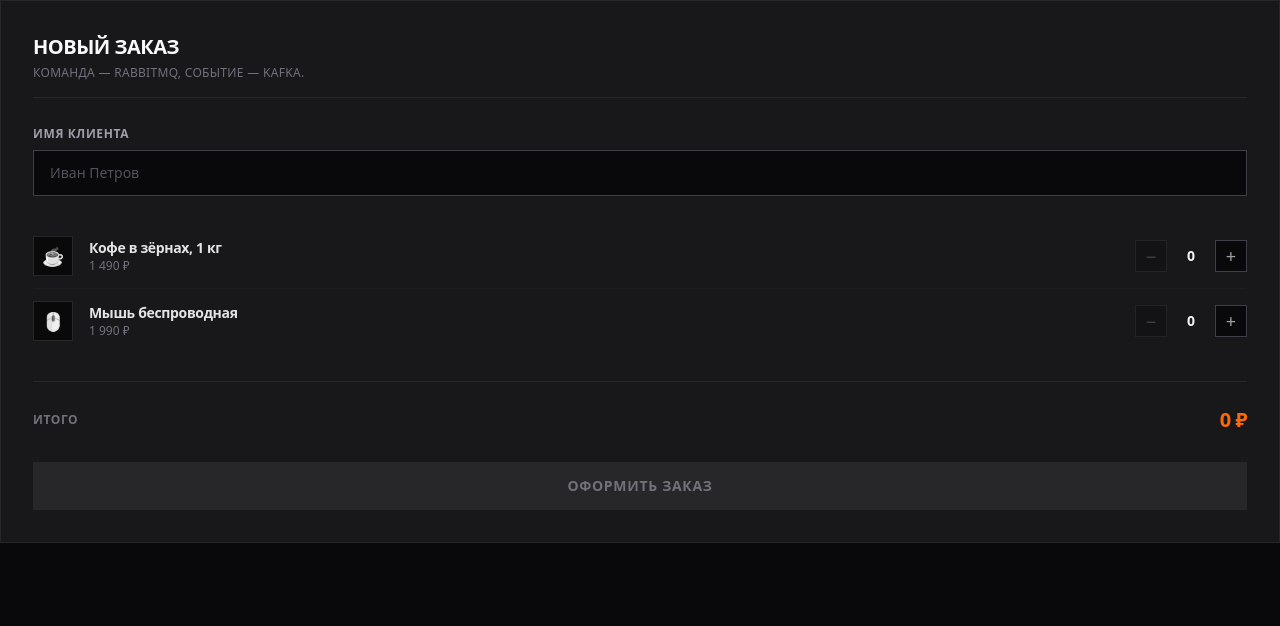
Test: OrderForm › отклоняет заказ без имени клиента
# товар выбран, имени нет → кнопка активна, но валидация внутри должна откатить
Click the button named "Добавить «Кофе в зёрнах, 1 кг»": (1231, 256) [1215,240,1247,272]
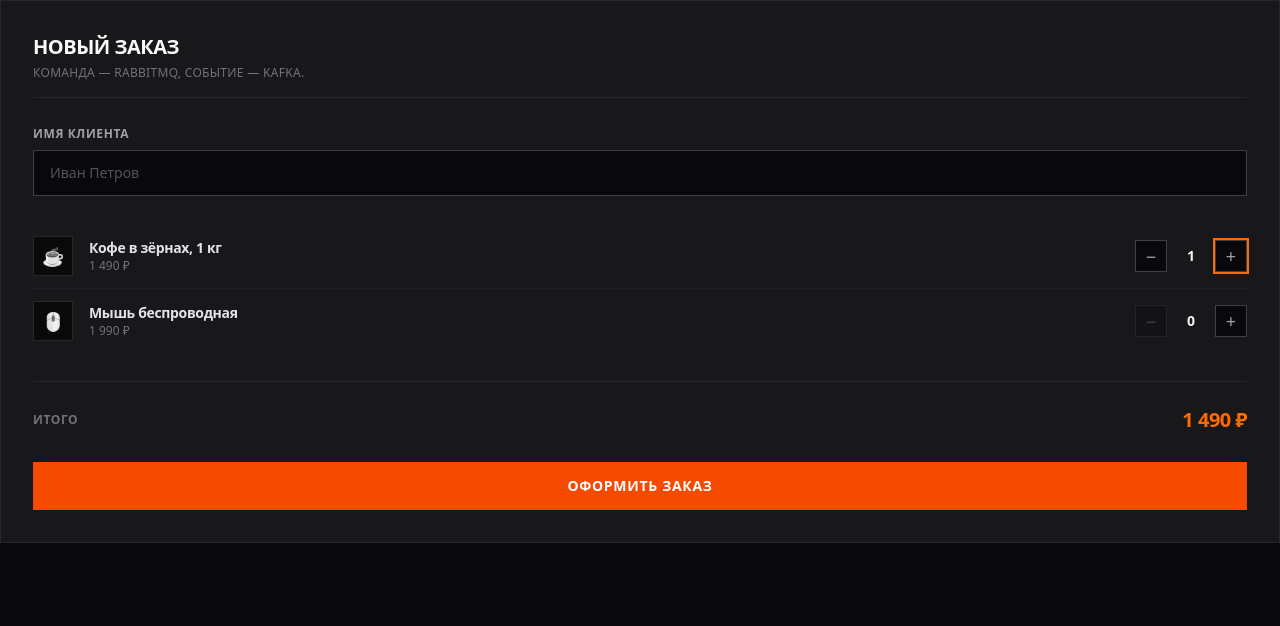
Click the button "Оформить заказ": (640, 486) [33,462,1247,510]
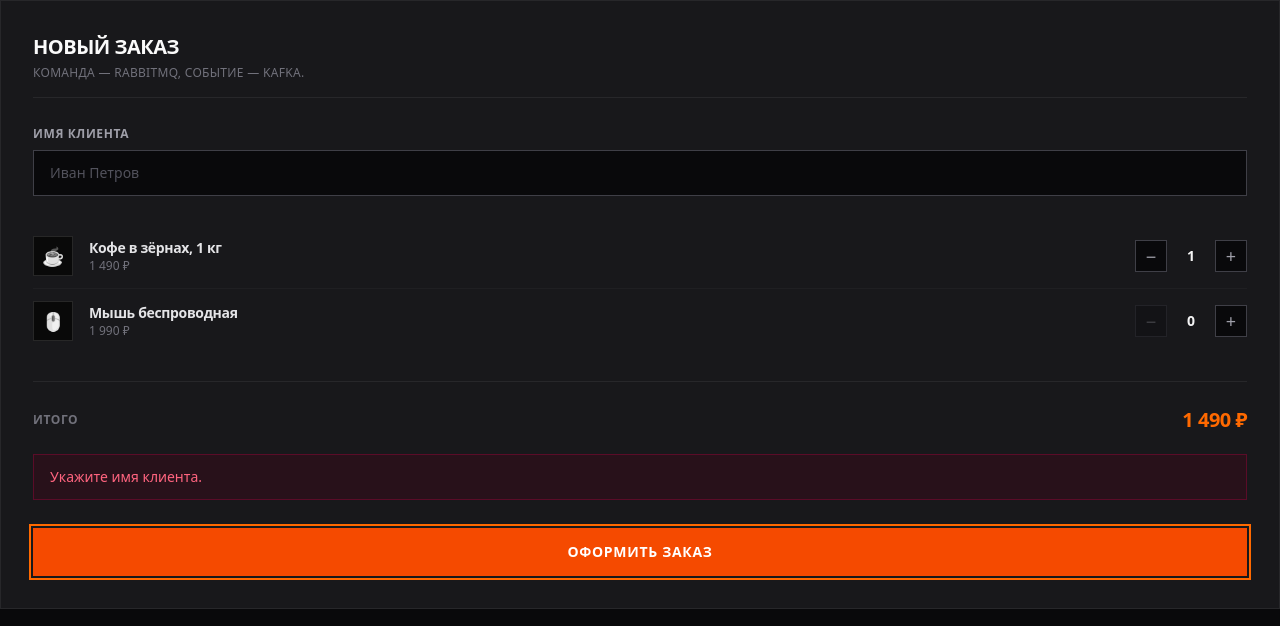
expect the message reads "Укажите имя клиента.": met, box [50,467,202,486]
